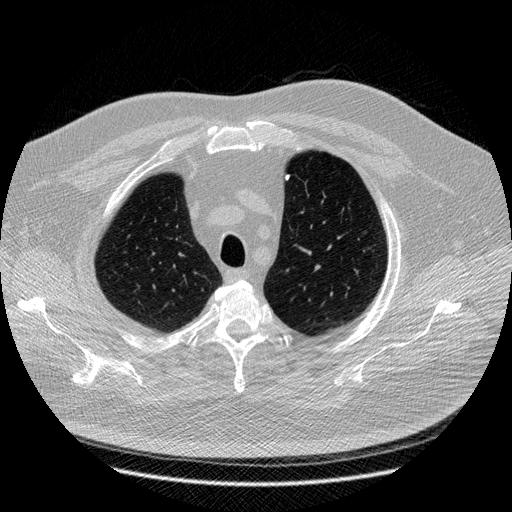nodule: (282, 172, 293, 183)
